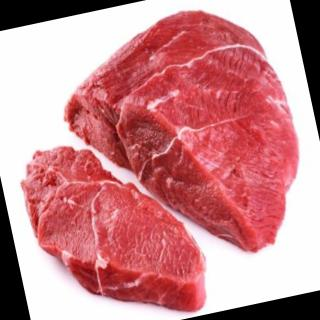Daging Sapi: (48, 1, 318, 284), (15, 120, 215, 320)
